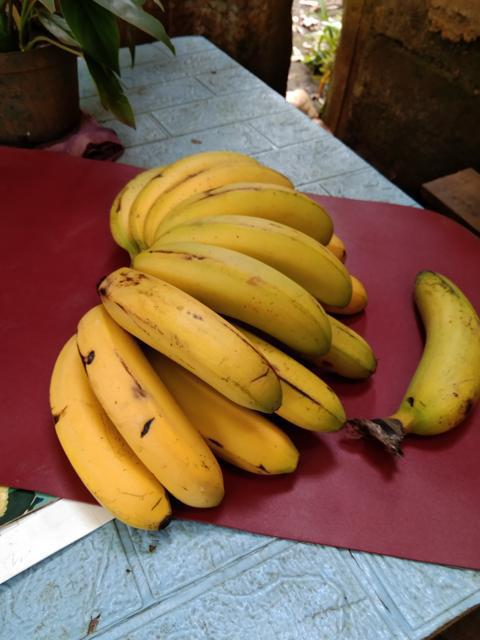ripe: (74, 307, 229, 514), (94, 267, 284, 408), (136, 234, 337, 355), (380, 259, 479, 441)
